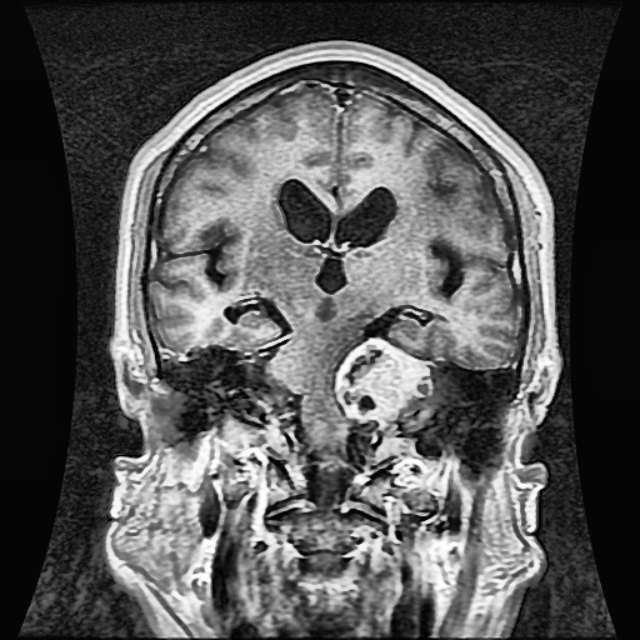Glioma: (334, 335, 434, 425)
